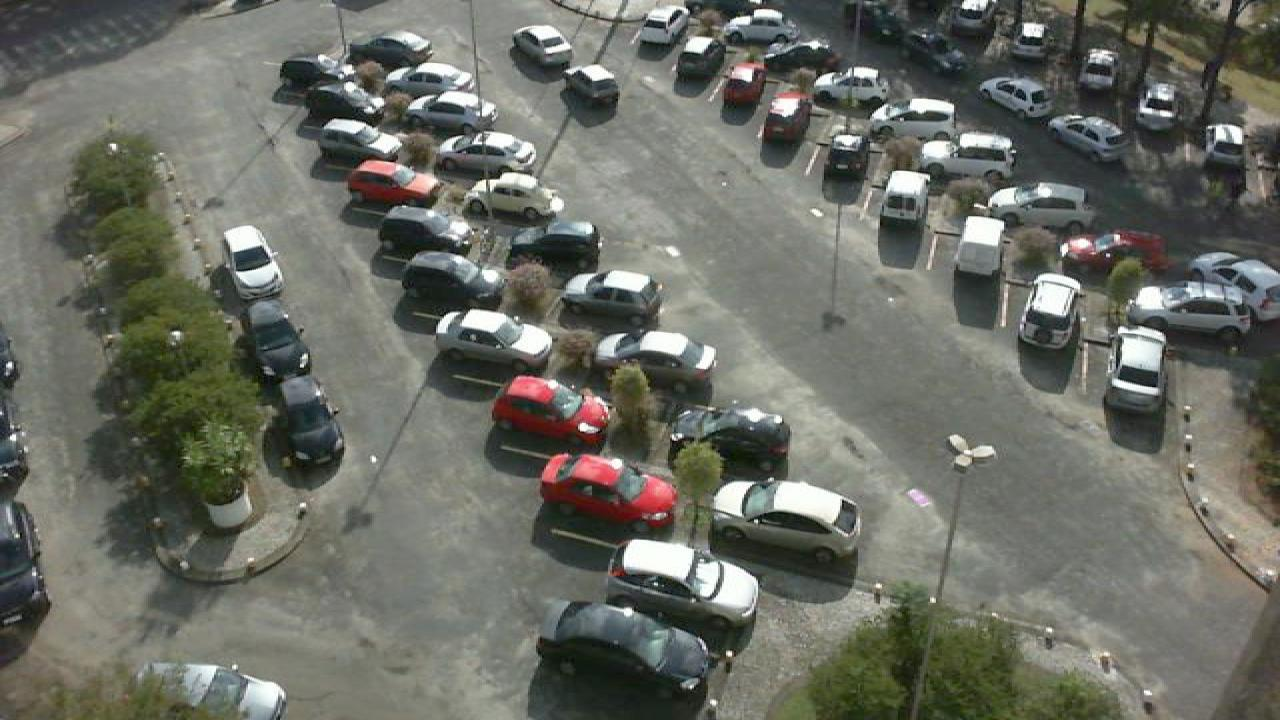Car: (538, 598, 722, 696), (602, 536, 766, 636), (706, 476, 866, 561), (538, 454, 682, 528), (130, 659, 292, 720), (488, 374, 612, 446), (432, 307, 558, 371), (270, 374, 346, 474), (668, 406, 792, 466), (1128, 282, 1256, 338), (596, 330, 720, 384), (1104, 325, 1176, 413), (1182, 253, 1280, 316), (398, 250, 508, 304), (984, 180, 1098, 231), (1054, 228, 1172, 277), (238, 300, 314, 376), (562, 269, 666, 323), (1018, 271, 1086, 352), (462, 172, 568, 221), (218, 224, 286, 299), (920, 132, 1018, 180), (378, 204, 472, 252), (440, 130, 542, 174), (346, 158, 442, 204), (868, 96, 962, 142), (508, 219, 602, 262), (1046, 112, 1130, 160), (300, 80, 384, 127), (950, 215, 1008, 283), (318, 117, 406, 161), (876, 168, 936, 230), (810, 66, 892, 110), (976, 74, 1056, 118), (344, 29, 434, 68), (410, 90, 498, 129), (380, 63, 478, 96), (758, 91, 814, 146), (276, 52, 358, 89), (762, 38, 840, 75), (510, 23, 574, 68), (720, 7, 798, 43), (560, 63, 624, 106), (822, 132, 872, 184), (674, 35, 728, 82), (1202, 122, 1250, 168), (638, 2, 688, 46), (720, 61, 768, 106), (1136, 81, 1180, 127), (1078, 47, 1120, 90), (1018, 21, 1052, 57), (960, 0, 994, 29)
